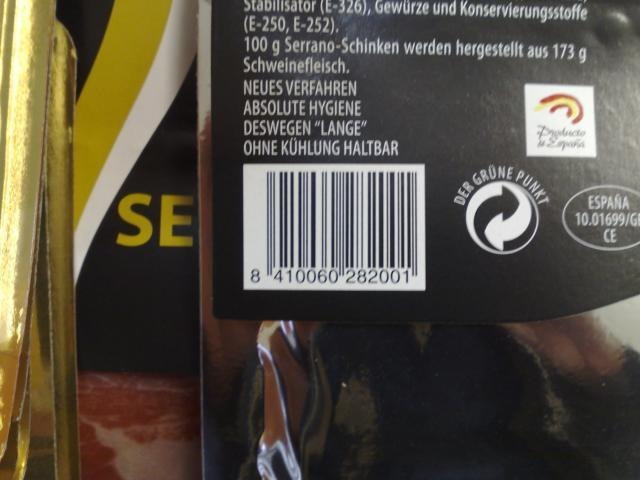Barcode: (243, 164, 426, 291)
